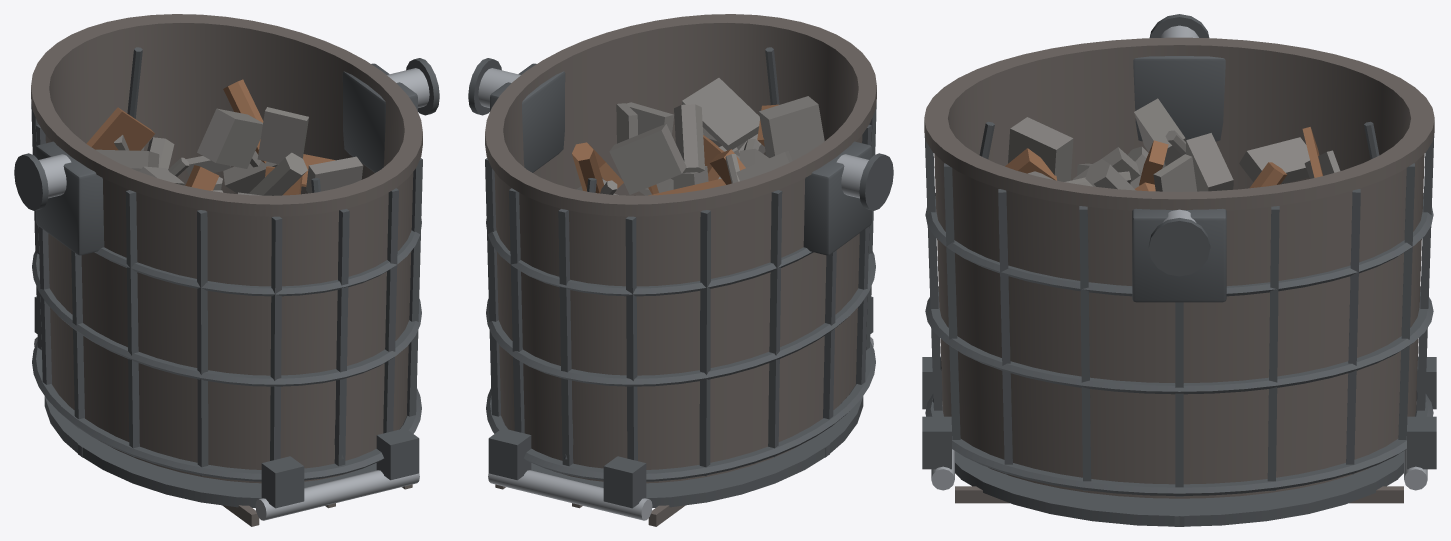
The model's file is scrap_bucket.glb.
3 views of the same model, side by side, from view 1: azimuth 30°, elevation 25°; view 2: azimuth 150°, elevation 25°; view 3: azimuth 270°, elevation 25° (orthographic). The views are drawn at different scales.
Visible parts, largest first — view 1: ScrapBucket_geo, scrapLoad_geo, clamR_geo, clamL_geo; view 2: ScrapBucket_geo, scrapLoad_geo, clamL_geo, clamR_geo; view 3: ScrapBucket_geo, scrapLoad_geo, clamL_geo, clamR_geo.
Part boxes in pixels (x1,y1,x2,y2): ScrapBucket_geo: [14, 14, 439, 508]; scrapLoad_geo: [86, 79, 363, 195]; clamR_geo: [78, 443, 419, 526]; clamL_geo: [34, 337, 102, 457]; ScrapBucket_geo: [468, 14, 893, 508]; scrapLoad_geo: [572, 78, 824, 195]; clamL_geo: [488, 443, 829, 526]; clamR_geo: [805, 337, 873, 457]; ScrapBucket_geo: [922, 14, 1436, 498]; scrapLoad_geo: [1005, 98, 1340, 191]; clamL_geo: [1174, 449, 1427, 526]; clamR_geo: [931, 449, 1184, 526].
Bounding box in the file's own units: 4.14 × 3.21 × 4.35.
